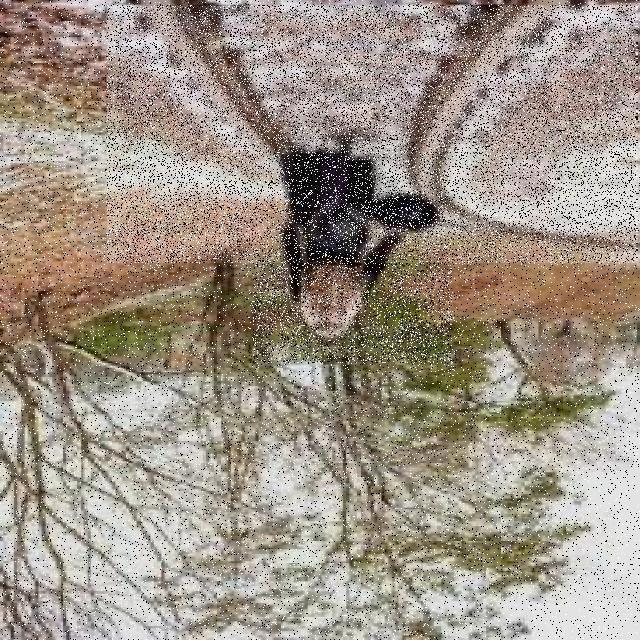rail: (109, 7, 638, 264)
